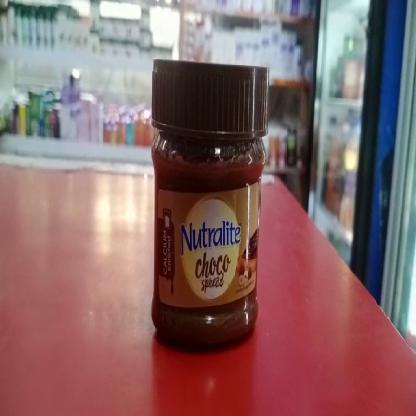Nutralite CHOCO SPREAD CALCIUM 275g: (152, 61, 268, 350)
